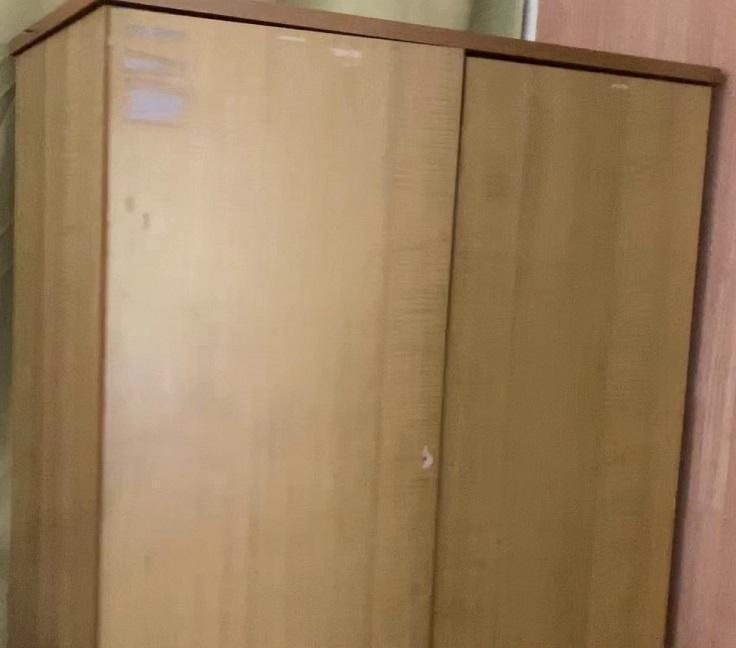Armario: (10, 14, 719, 639)
